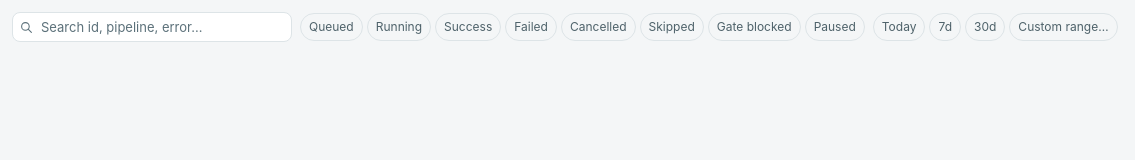
Test: FilterBar date range › keeps the date fields folded until Custom range is asked for
Click the button "Custom range…": coordinates (1064, 27) [1009,13,1118,41]
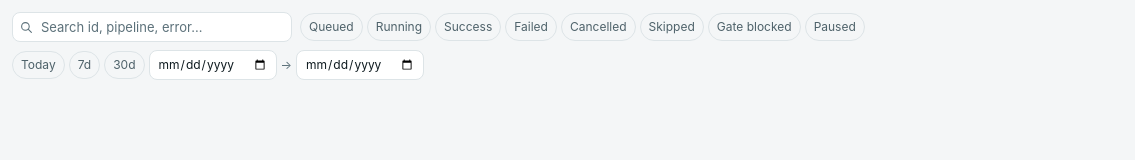
Expected: the date field named "From date" is shown, [148,50,276,80]
